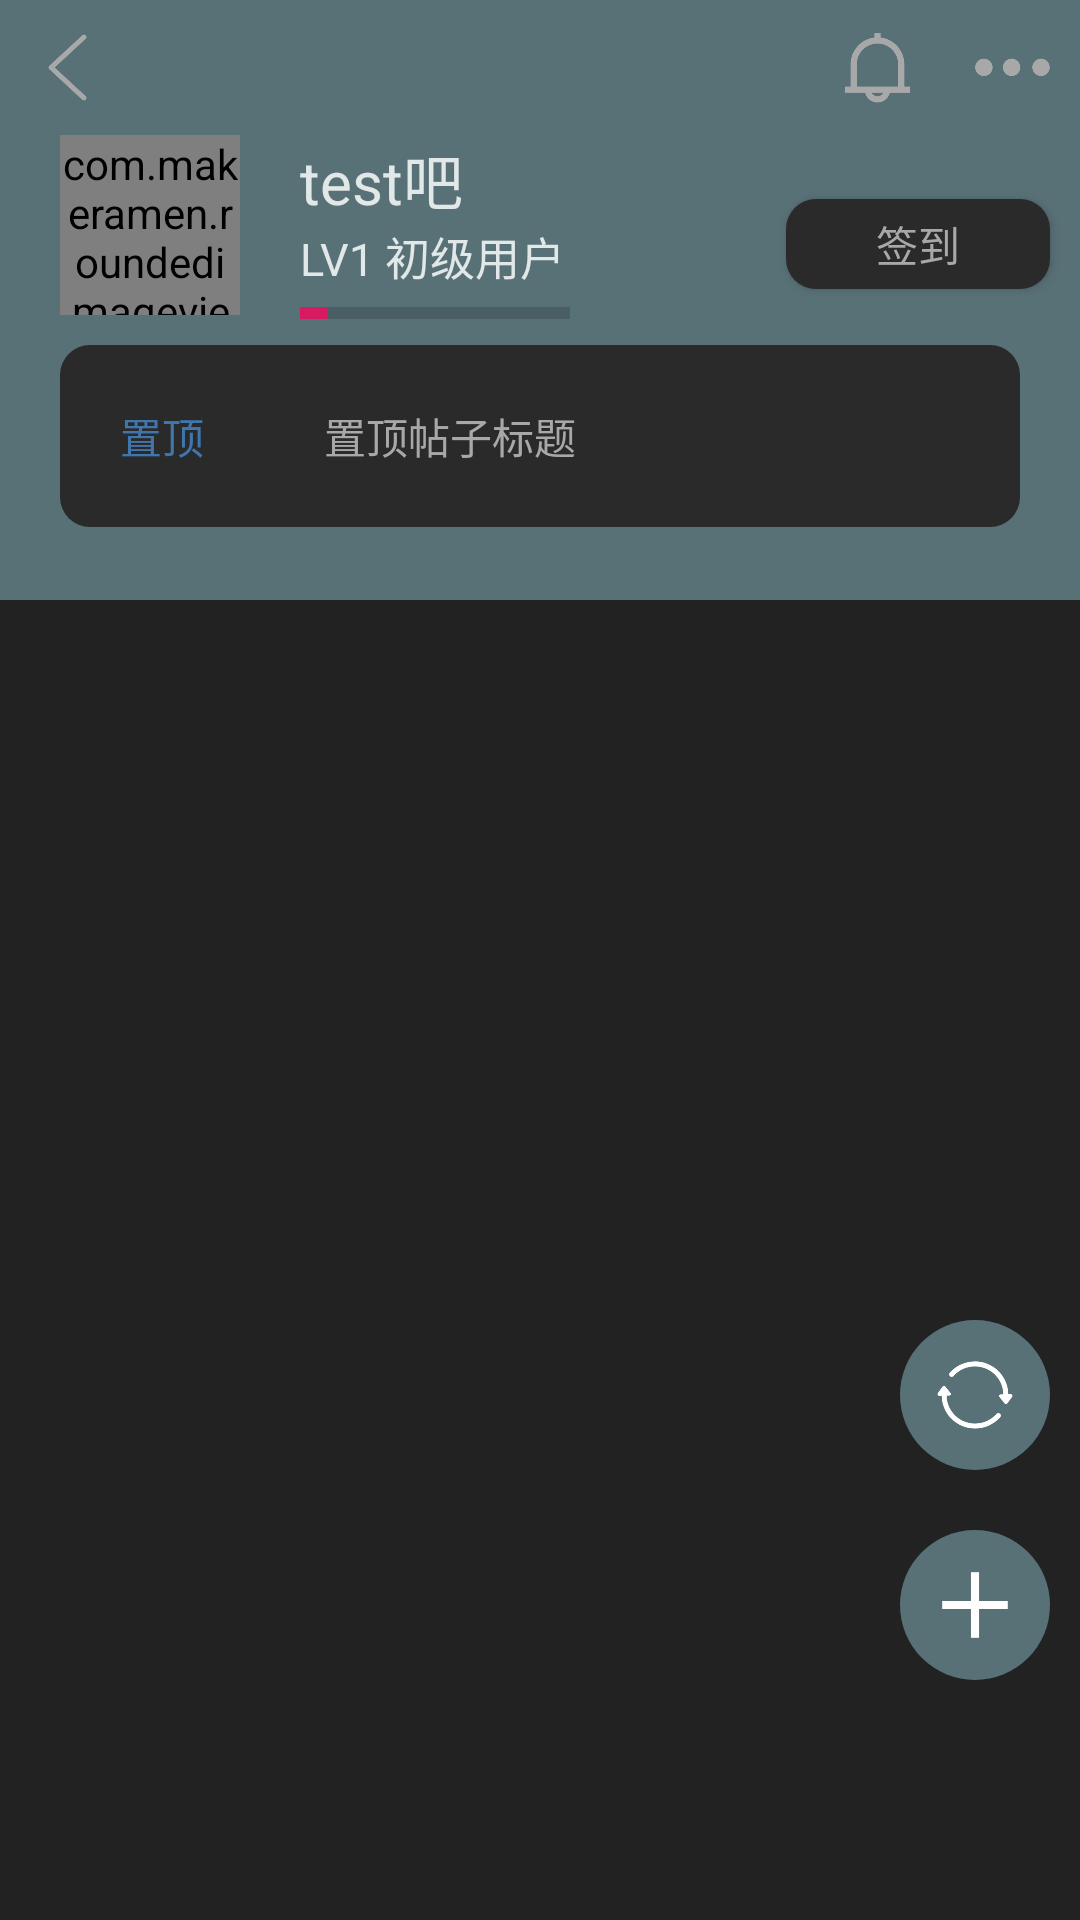

Icon click points for this 1080px×1920px phone screenshot, format point (x, y):
add: point (975, 1605)
ba home gengduo: point (1012, 67)
ba home return: point (67, 67)
ba home tixing: point (877, 68)
refresh: point (975, 1395)
